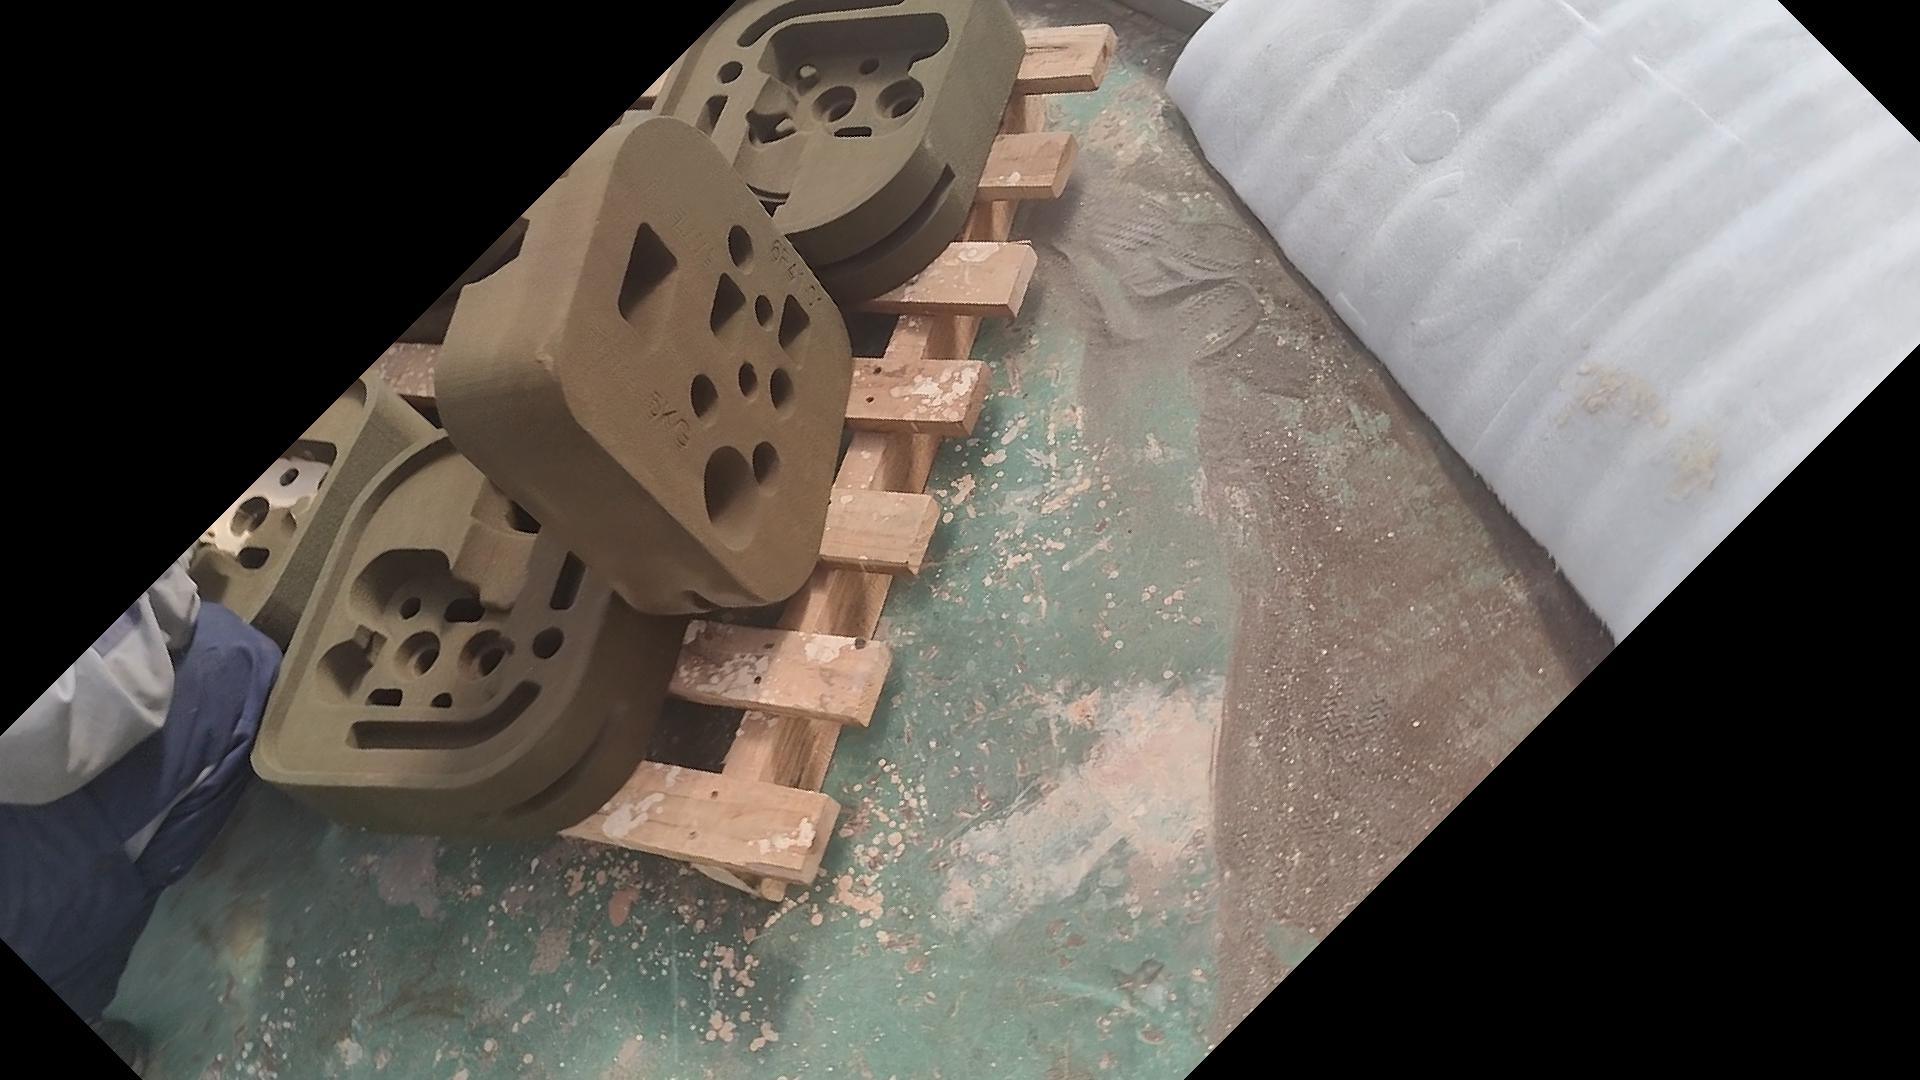pouring hole: (702, 444, 762, 553)
